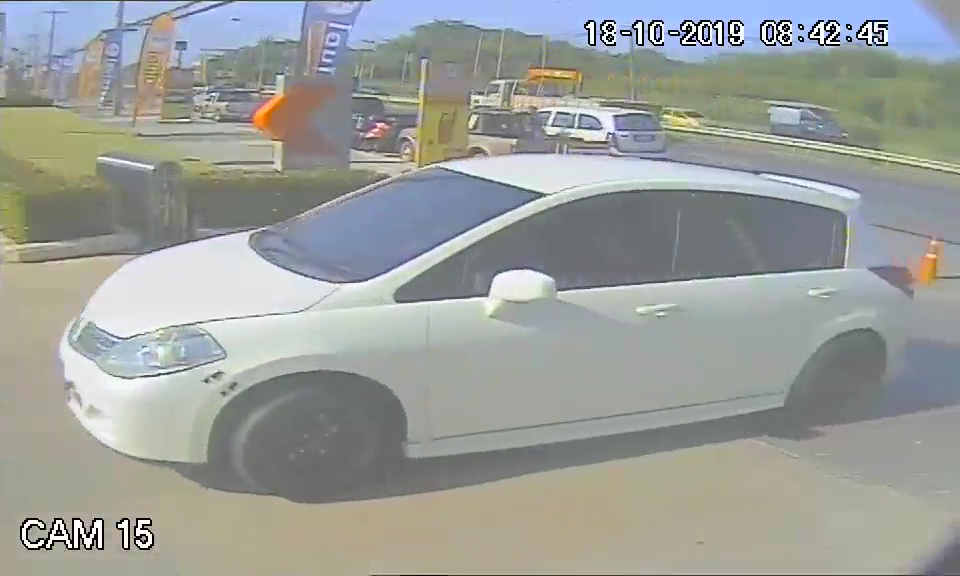sedan: (58, 151, 920, 495)
